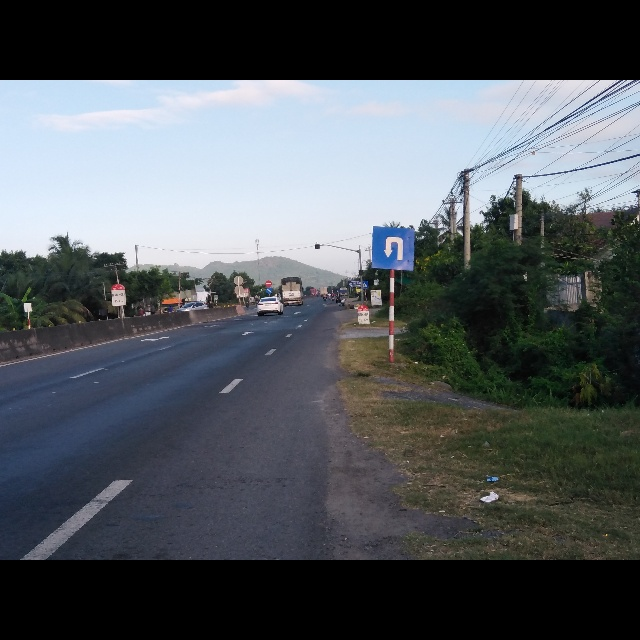Khu vực quay đầu xe: (370, 225, 415, 273)
